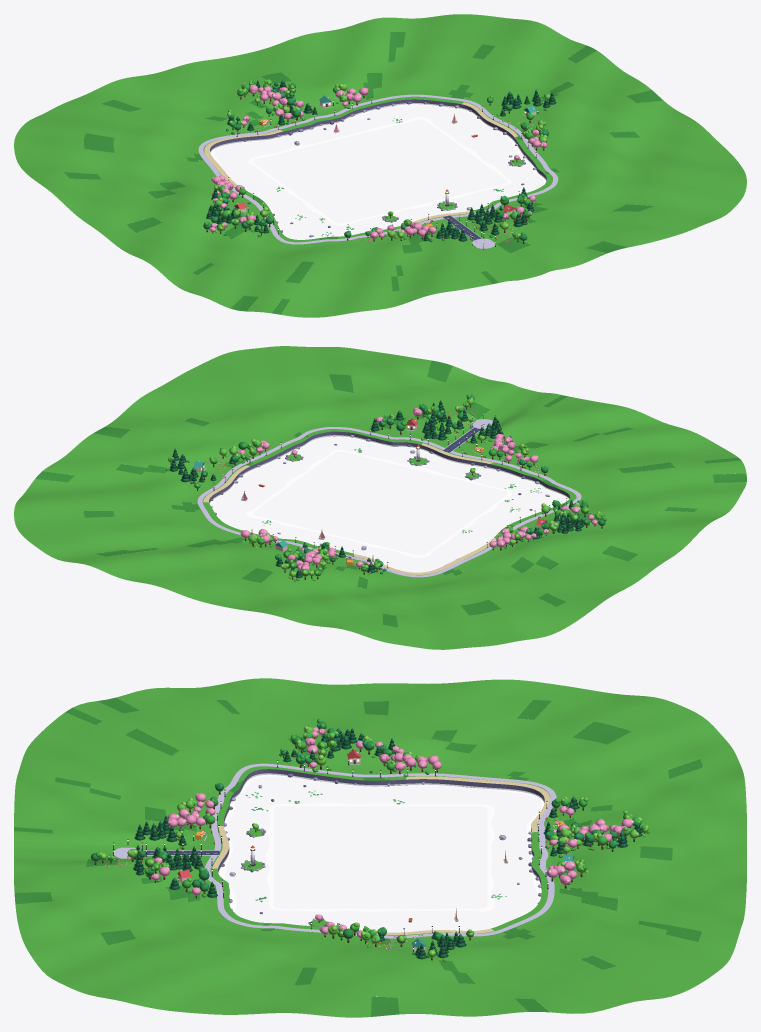
The model's file is city_surroundings.glb.
3 views of the same model, one above another, from view 1: azimuth 30°, elevation 25°; view 2: azimuth 150°, elevation 25°; view 3: azimuth 270°, elevation 25° (orthographic). The views are drawn at different scales.
Visible parts, largest first — view 1: city_surr_shore, city_surr_leaves, city_surr_foam, city_surr_promenade, city_surr_road, city_surr_houses; view 2: city_surr_shore, city_surr_leaves, city_surr_promenade, city_surr_foam, city_surr_houses, city_surr_road; view 3: city_surr_shore, city_surr_leaves, city_surr_foam, city_surr_promenade, city_surr_houses, city_surr_trunks, city_surr_road.
Part boxes in pixels (box(x1,y1,x2,y2)): city_surr_shore: box(14, 14, 746, 317); city_surr_leaves: box(203, 79, 556, 242); city_surr_foam: box(210, 103, 546, 238); city_surr_promenade: box(198, 94, 558, 244); city_surr_road: box(442, 214, 495, 249); city_surr_houses: box(234, 95, 538, 228); city_surr_shore: box(14, 346, 746, 649); city_surr_leaves: box(166, 394, 606, 581); city_surr_promenade: box(197, 426, 581, 577); city_surr_foam: box(209, 435, 569, 567); city_surr_houses: box(193, 418, 547, 565); city_surr_road: box(442, 412, 495, 452); city_surr_shore: box(14, 678, 746, 1017); city_surr_leaves: box(91, 718, 649, 961); city_surr_foam: box(218, 773, 544, 925); city_surr_promenade: box(204, 760, 556, 938); city_surr_houses: box(177, 749, 574, 951); city_surr_trunks: box(94, 735, 645, 960); city_surr_road: box(113, 839, 219, 858).
Bounding box in the file's own units: 430 × 17.42 × 400.
